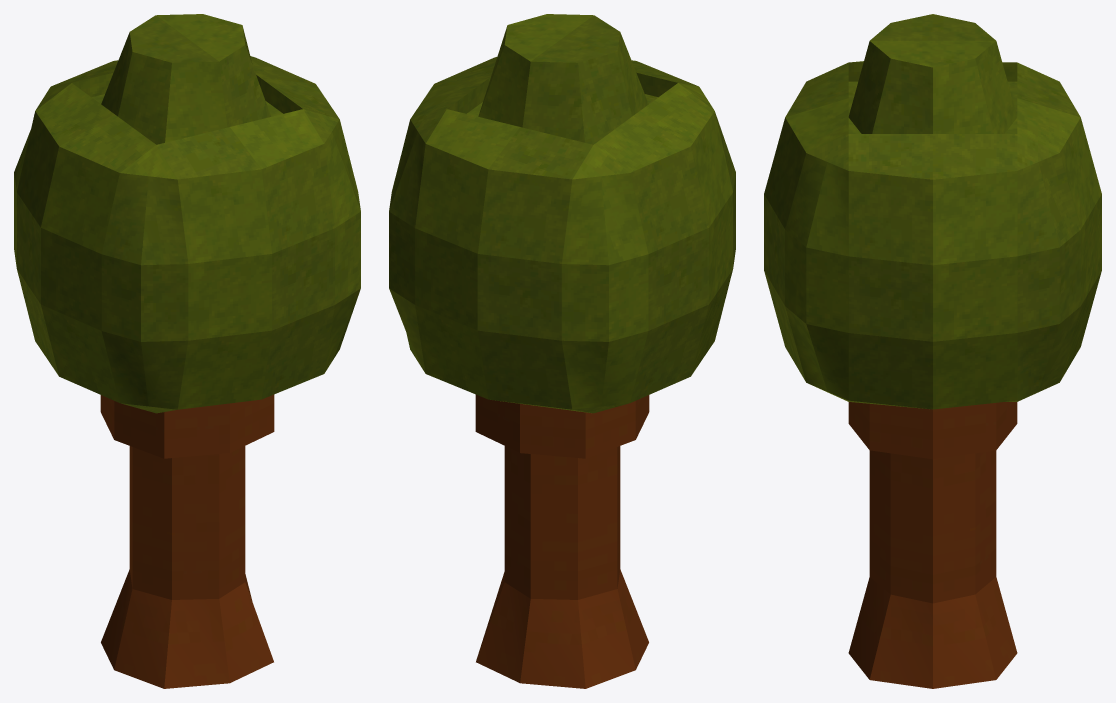
Rendered from derevo.fbx.
3 renders of one model, left to right at view 1: azimuth 30°, elevation 25°; view 2: azimuth 150°, elevation 25°; view 3: azimuth 270°, elevation 25°, orthographic.
Visible parts, largest first — view 1: дерево.004; view 2: дерево.004; view 3: дерево.004.
Boxes of the visible parts, bbox=[...] form: дерево.004: bbox=[14, 14, 360, 688]; дерево.004: bbox=[389, 14, 735, 688]; дерево.004: bbox=[764, 14, 1101, 688].
Size of the model in its own units: 763 by 1527 by 763.
